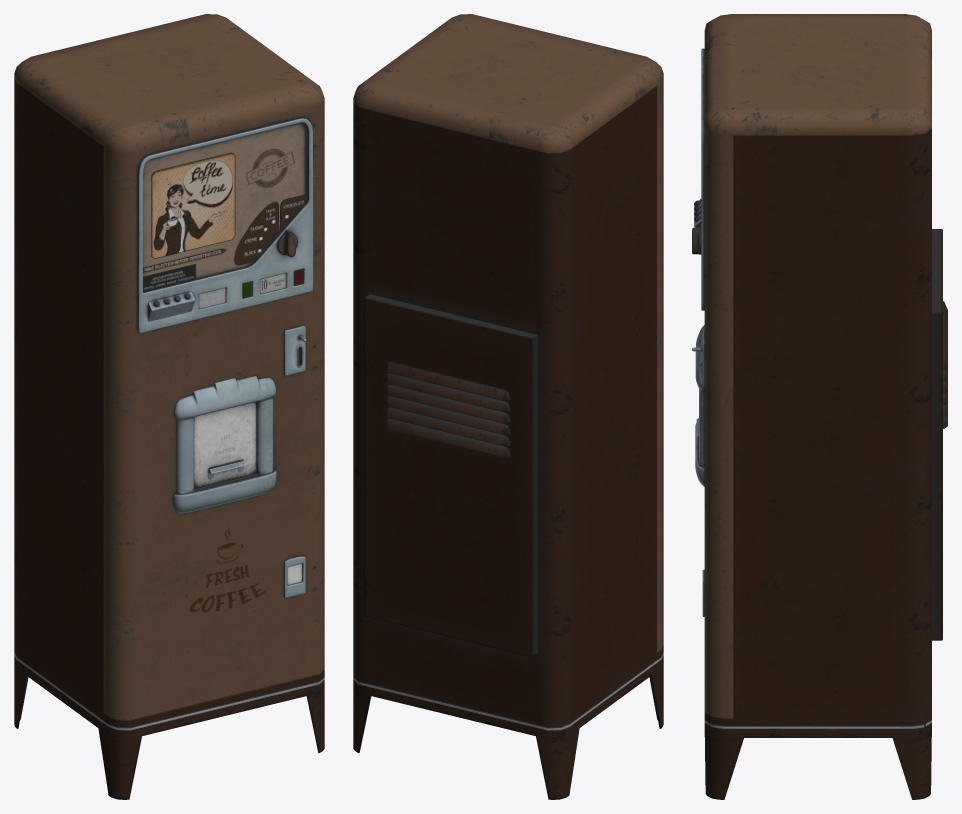
The model's file is coffee machine — kopia.fbx.
3 views of the same model, side by side, from view 1: azimuth 30°, elevation 25°; view 2: azimuth 150°, elevation 25°; view 3: azimuth 270°, elevation 25° (orthographic). The views are drawn at different scales.
Parts seen in each view (by area): view 1: Cube.001; view 2: Cube.001; view 3: Cube.001.
Part boxes in pixels (<box>): Cube.001: <box>14,14,324,799</box>; Cube.001: <box>353,14,663,799</box>; Cube.001: <box>692,14,947,799</box>.
Size of the model in its own units: 55 by 163 by 55.28.
